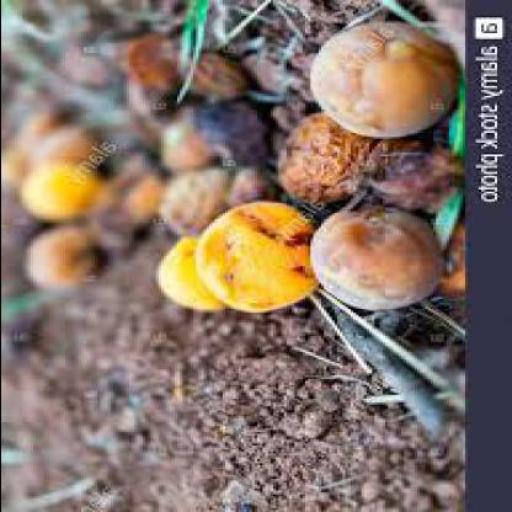biodegradable: (304, 19, 457, 135), (192, 198, 318, 310), (306, 205, 437, 305), (272, 112, 378, 202), (355, 134, 459, 208), (88, 150, 154, 249), (22, 224, 102, 294), (149, 234, 221, 311), (186, 100, 266, 168), (14, 154, 96, 218), (155, 166, 229, 234), (117, 34, 173, 120), (152, 102, 211, 164), (109, 79, 154, 150), (178, 46, 242, 94), (53, 35, 109, 88), (27, 123, 96, 166), (218, 162, 272, 206), (10, 98, 56, 146), (435, 214, 459, 294), (1, 134, 30, 182)
